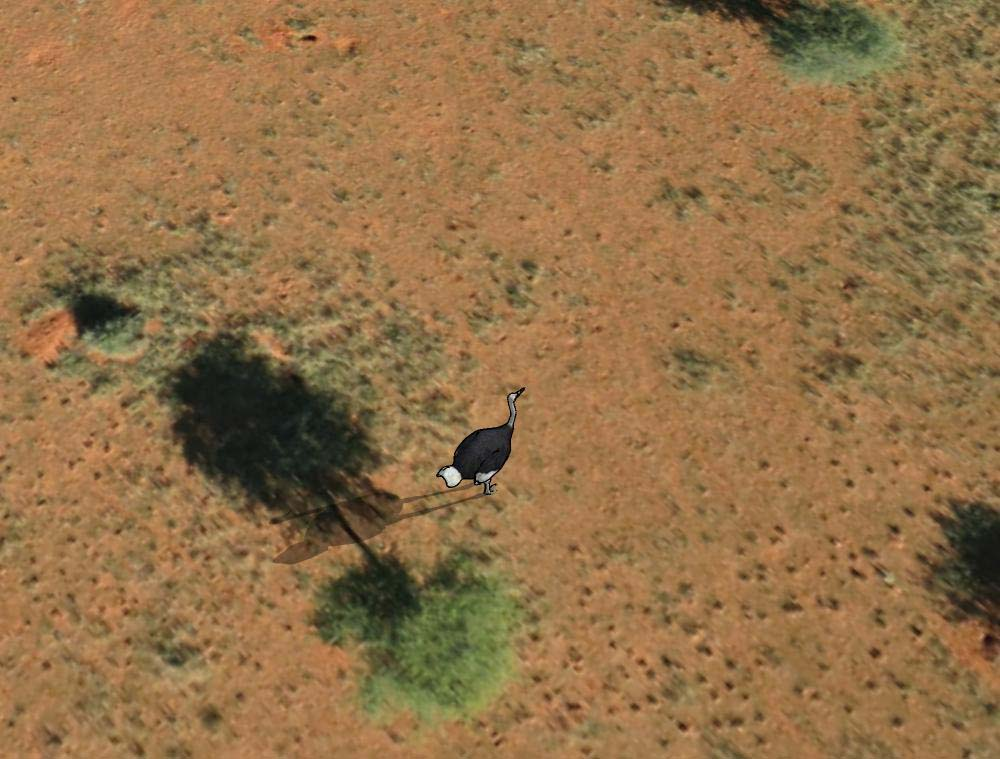ostrich: (431, 383, 525, 496)
